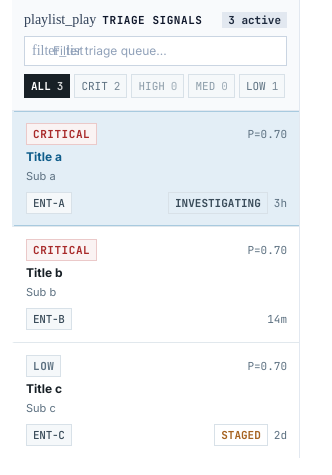
Test case: Triage rail shows queue context: counts, lifecycle status and age › labels severity pills with live counts and keeps them clickable filters
expect the button "ALL 3" is shown: met, box [24, 74, 70, 98]
expect the button "HIGH 0" is shown: met, box [131, 74, 184, 98]
Click the button with aria-label "CRITICAL 2" at (101, 86), box [74, 74, 127, 98]
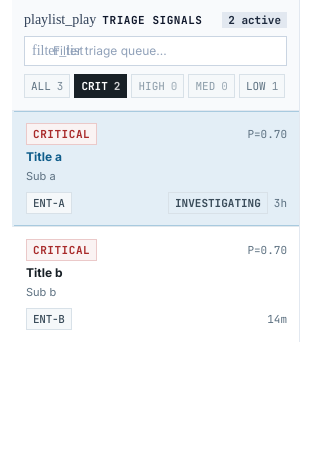
expect the button "Title c" is gone: met
